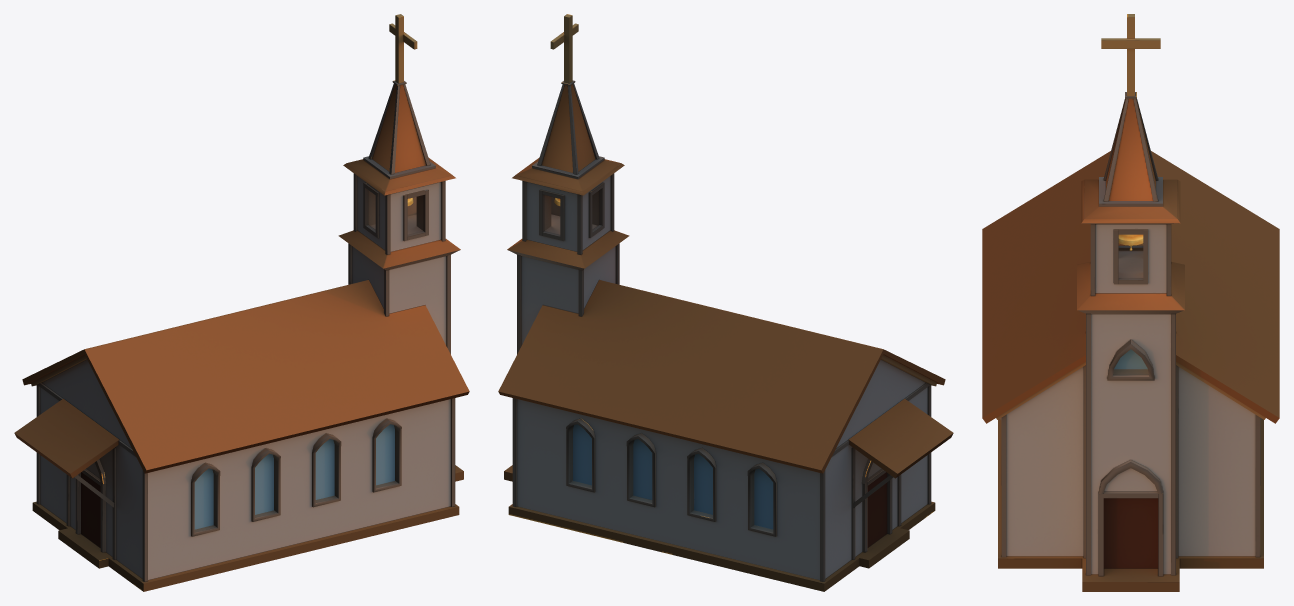
Rendered from chu.glb.
The picture shows the model from 3 angles, left to right: view 1: azimuth 30°, elevation 25°; view 2: azimuth 150°, elevation 25°; view 3: azimuth 270°, elevation 25°; orthographic projection. The views are drawn at different scales.
Visible parts, largest first — view 1: church; view 2: church; view 3: church.
Part boxes in pixels (x1,y1,x2,y2): church: (14,14,469,591); church: (498,14,953,591); church: (982,14,1279,591).
Bounding box in the file's own units: 163 × 179 × 87.49.
Materials: 1 (1 with a texture image).
